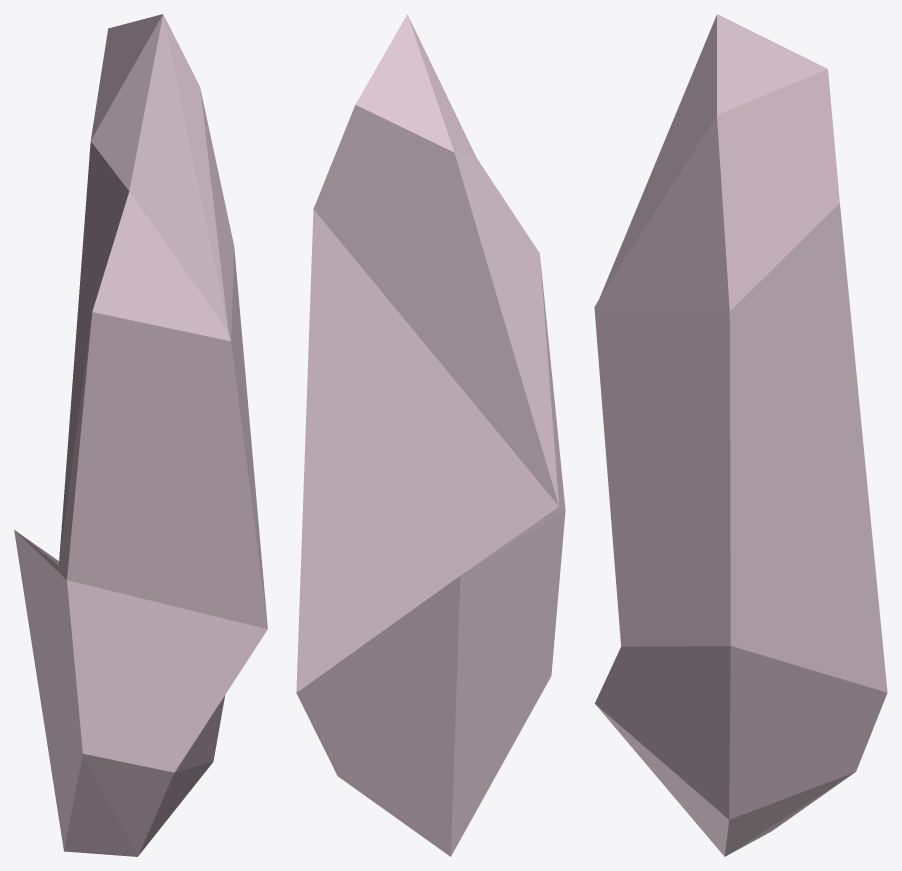
Rendered from rock3.fbx.
3 views of the same model, side by side, from view 1: azimuth 30°, elevation 25°; view 2: azimuth 150°, elevation 25°; view 3: azimuth 270°, elevation 25° (orthographic). The views are drawn at different scales.
Visible parts, largest first — view 1: pSphere1; view 2: pSphere1; view 3: pSphere1.
Boxes of the visible parts, x1,y1,x2,y2 form: pSphere1: [14, 14, 267, 856]; pSphere1: [296, 14, 565, 856]; pSphere1: [594, 14, 887, 856].
Bounding box in the file's own units: 3.64 × 13.12 × 4.08.
